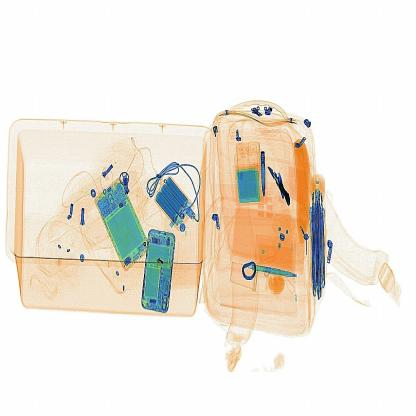wrench: (264, 156, 298, 210)
